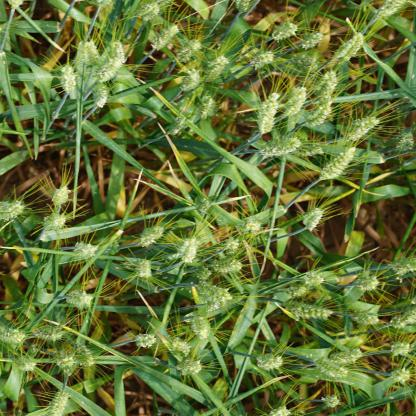whd: (279, 298, 334, 324), (248, 89, 278, 136), (334, 109, 377, 140), (321, 144, 356, 180), (93, 44, 126, 82), (329, 30, 369, 61), (252, 134, 302, 158), (145, 19, 179, 53), (197, 93, 232, 126), (168, 233, 200, 268), (308, 64, 340, 97), (192, 276, 234, 301), (202, 51, 231, 85), (166, 34, 198, 63), (283, 82, 307, 120), (208, 252, 244, 277), (0, 321, 34, 346), (347, 306, 381, 331), (303, 98, 332, 127), (252, 345, 283, 372), (42, 390, 74, 416), (58, 62, 81, 98), (270, 18, 301, 44), (241, 43, 274, 67), (388, 302, 416, 330), (77, 36, 100, 70), (382, 336, 414, 360), (328, 343, 364, 364), (298, 206, 323, 236), (33, 320, 67, 342), (314, 355, 346, 378), (294, 50, 322, 76), (375, 0, 415, 18), (298, 27, 326, 52), (62, 290, 93, 312), (8, 350, 42, 369), (130, 260, 158, 283), (134, 1, 162, 24), (0, 197, 24, 223), (72, 341, 96, 367), (212, 234, 240, 256), (189, 314, 213, 339), (71, 237, 98, 258), (298, 138, 326, 158), (165, 113, 187, 138), (184, 68, 205, 94), (296, 267, 326, 285), (50, 350, 74, 372), (237, 215, 262, 236), (138, 226, 164, 246), (90, 84, 109, 111), (392, 255, 416, 276), (50, 184, 74, 203), (41, 211, 65, 229), (321, 388, 340, 410), (388, 367, 411, 385), (178, 358, 201, 376), (172, 337, 192, 357), (202, 295, 227, 311), (133, 333, 157, 348), (284, 282, 305, 298), (396, 132, 414, 150), (355, 276, 378, 290), (196, 197, 213, 215), (268, 408, 290, 416)
